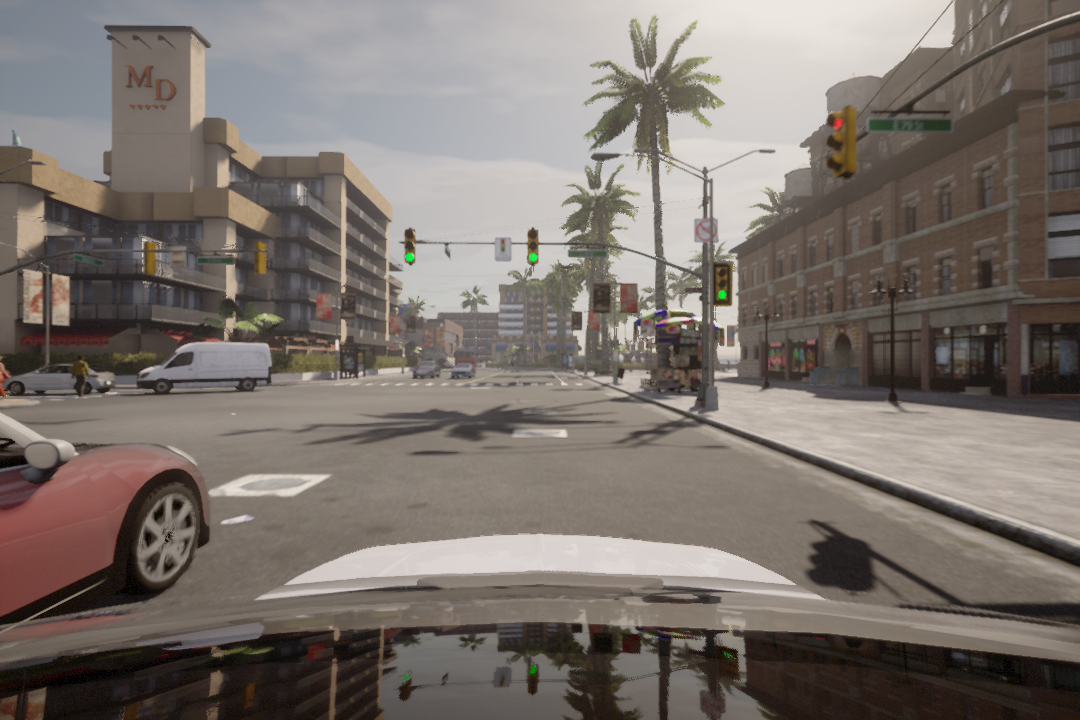TrafficLight: (823, 101, 864, 176), (714, 262, 734, 304), (524, 227, 540, 265), (404, 229, 418, 264)
TrafficSign: (699, 214, 719, 245)
